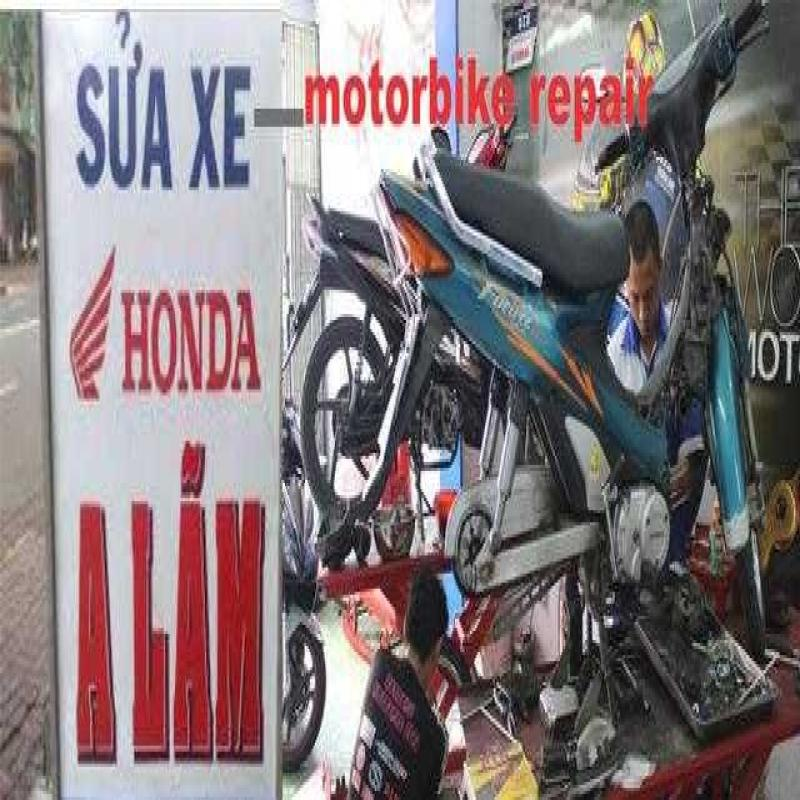bike: (360, 0, 781, 649)
